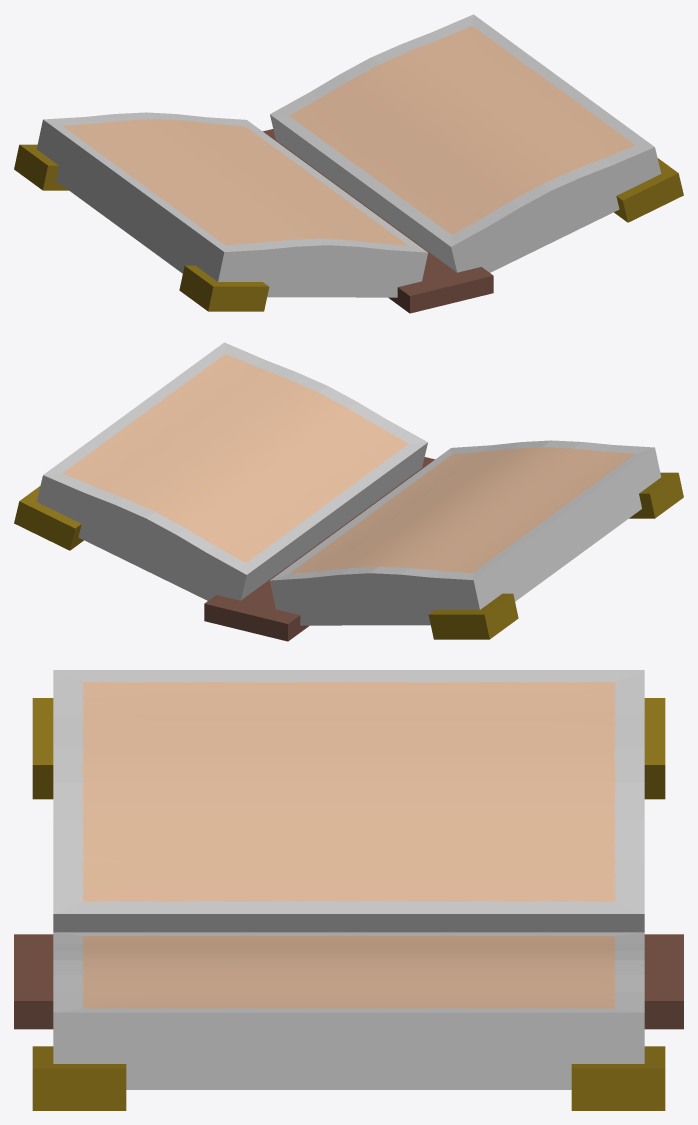
Rendered from LowPolybook02.fbx.
The picture shows the model from 3 angles, top to bottom: view 1: azimuth 30°, elevation 25°; view 2: azimuth 150°, elevation 25°; view 3: azimuth 270°, elevation 25°; orthographic projection. The views are drawn at different scales.
Visible parts, largest first — view 1: Cube.001; view 2: Cube.001; view 3: Cube.001.
Part boxes in pixels (x1,y1,x2,y2): Cube.001: (14,14,683,313); Cube.001: (14,342,683,641); Cube.001: (14,670,683,1110).
Size of the model in its own units: 455 by 86.63 by 340.
1 material, 1 textured.
